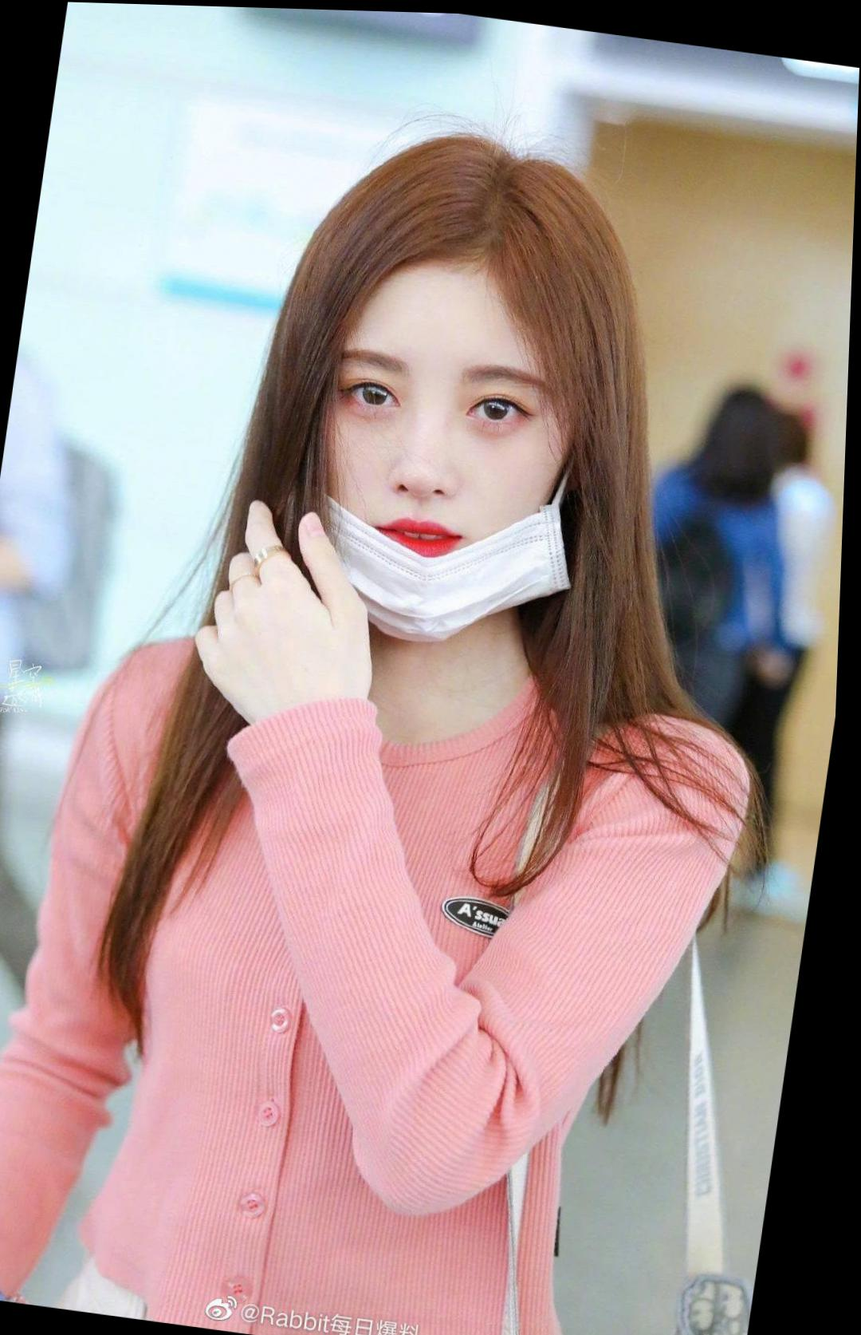WRONG: (299, 294, 585, 644)
